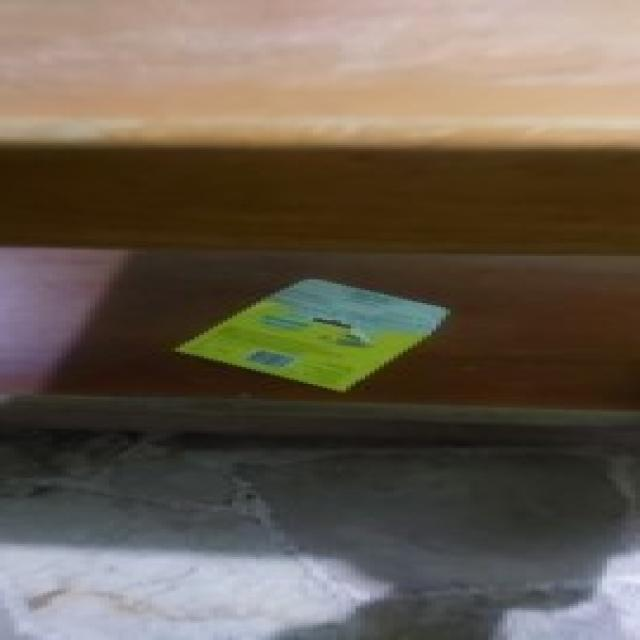Cacat: (172, 273, 460, 395)
Kemasan: (298, 313, 388, 352)
